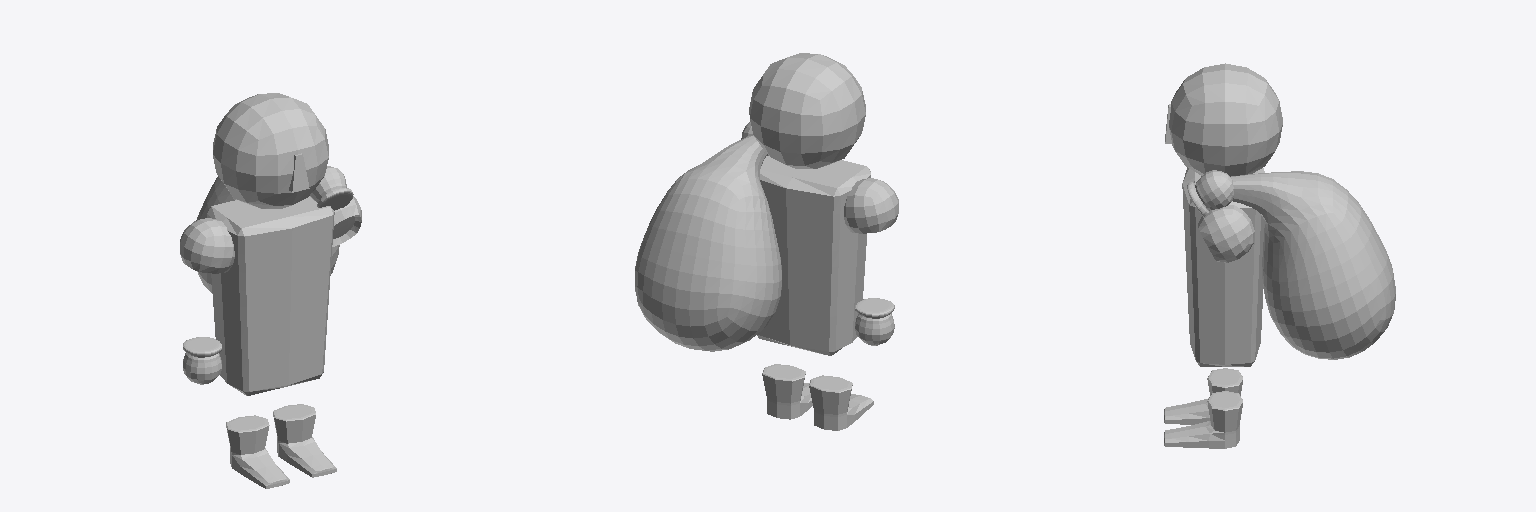
Rendered from RobberOBJ.obj.
3 renders of one model, left to right at view 1: azimuth 30°, elevation 25°; view 2: azimuth 150°, elevation 25°; view 3: azimuth 270°, elevation 25°, orthographic.
Visible parts, largest first — view 1: Robber; view 2: Robber; view 3: Robber.
Part boxes in pixels (bbox=[...]): Robber: bbox=[180, 93, 361, 488]; Robber: bbox=[635, 53, 898, 430]; Robber: bbox=[1164, 63, 1395, 448].
Size of the model in its own units: 2.65 by 4.58 by 2.67.